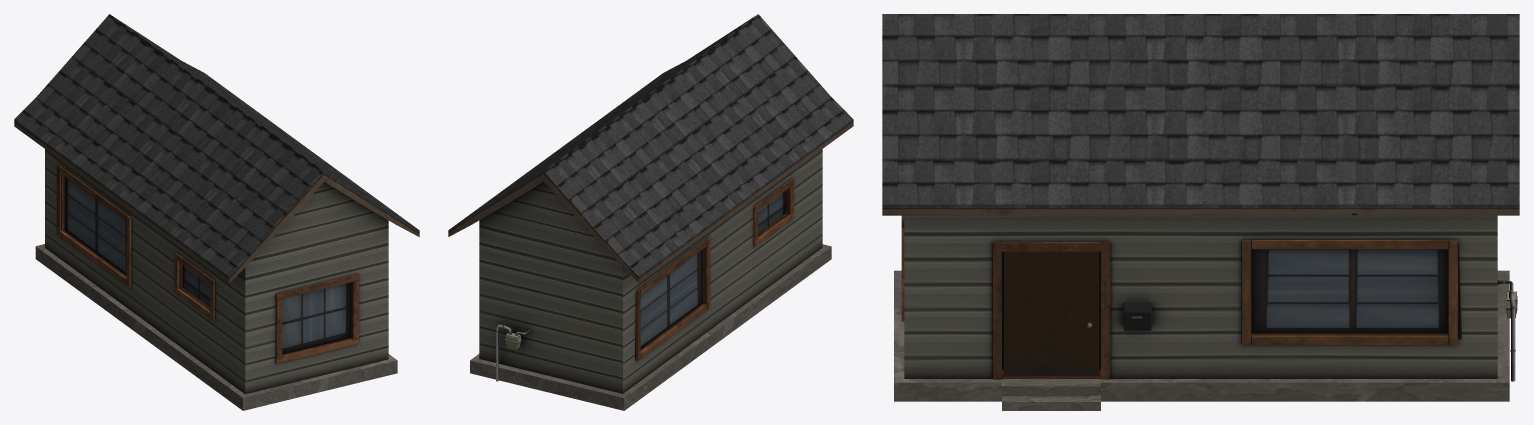
File: simple_house.glb
The picture shows the model from 3 angles, left to right: view 1: azimuth 30°, elevation 25°; view 2: azimuth 150°, elevation 25°; view 3: azimuth 270°, elevation 25°; orthographic projection. The views are drawn at different scales.
Parts seen in each view (by area): view 1: House_Joined; view 2: House_Joined; view 3: House_Joined.
Boxes of the visible parts, <box> form: House_Joined: <box>14,14,419,410</box>; House_Joined: <box>448,14,853,410</box>; House_Joined: <box>882,14,1519,410</box>.
Size of the model in its own units: 6.59 by 7.39 by 12.87.
Materials: 1 (1 with a texture image).
